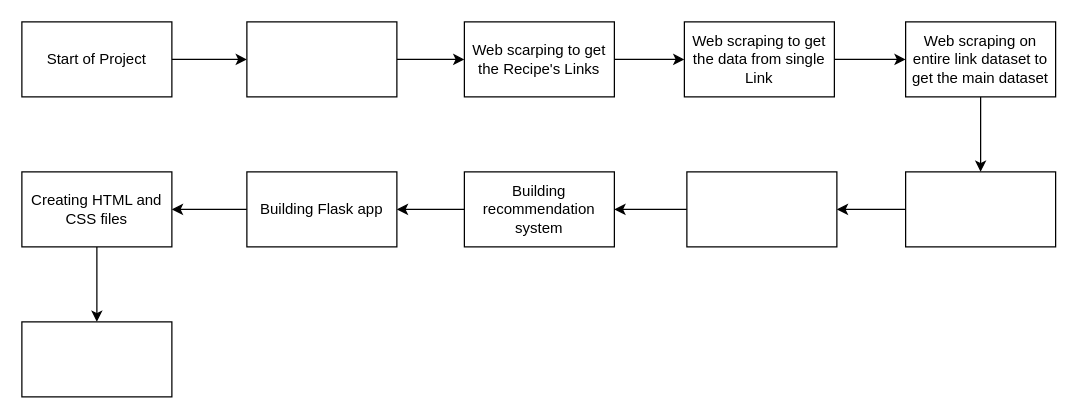
Image size: 1078x419. Some labels were removed from this diagram. The shapes that lost their labels are listed below. From the top down, each one's centre as x and y in pixels, then its label:
point (321, 59): Ideation of Project
point (761, 209): Manual data cleaning of main
point (980, 209): Data cleaning of the main dataset
point (96, 359): Deployment of final App
